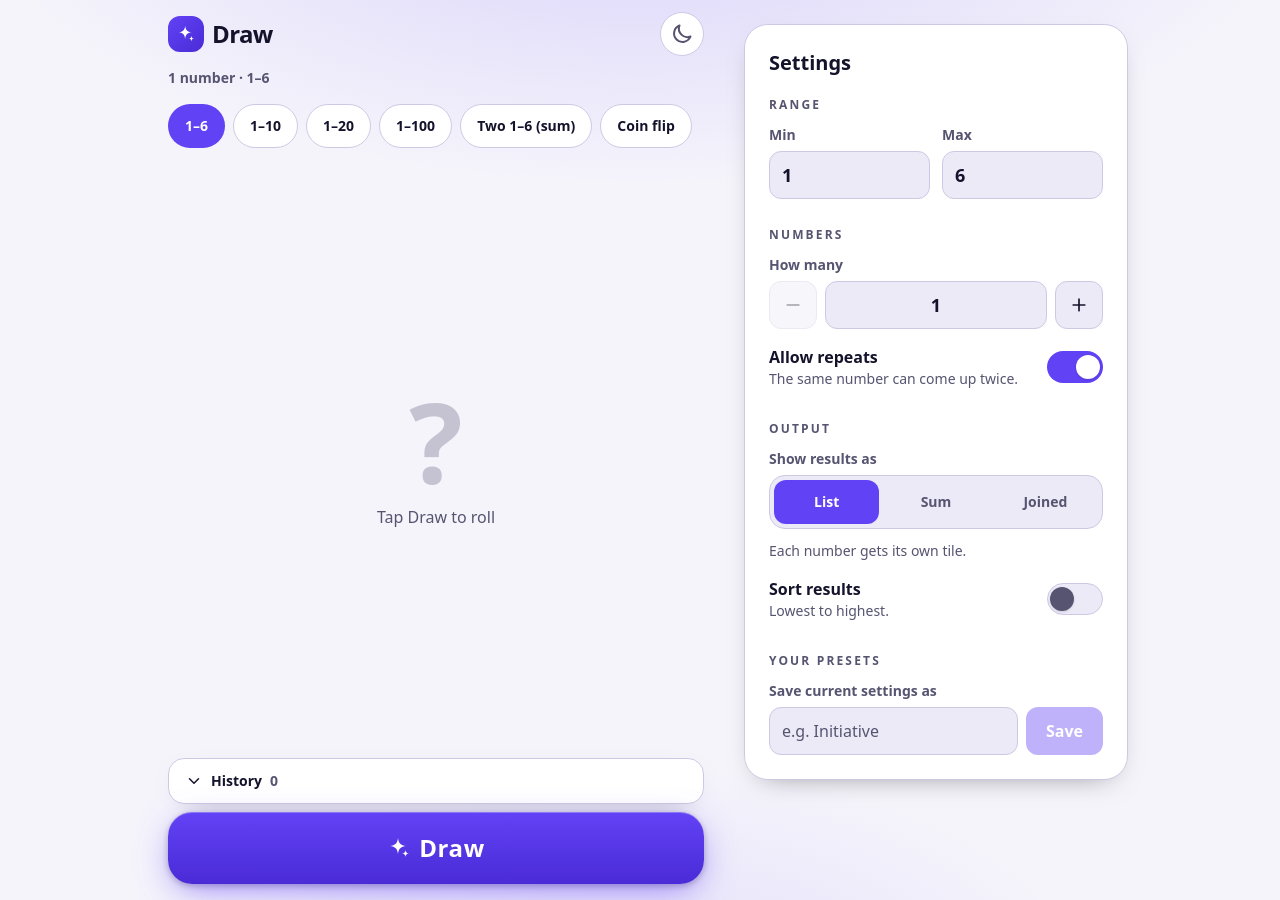
Scenario: drawing › applies a preset in one tap
The image size is (1280, 900).
Click the button "1–20": {"x": 339, "y": 126} [306,104,371,148]
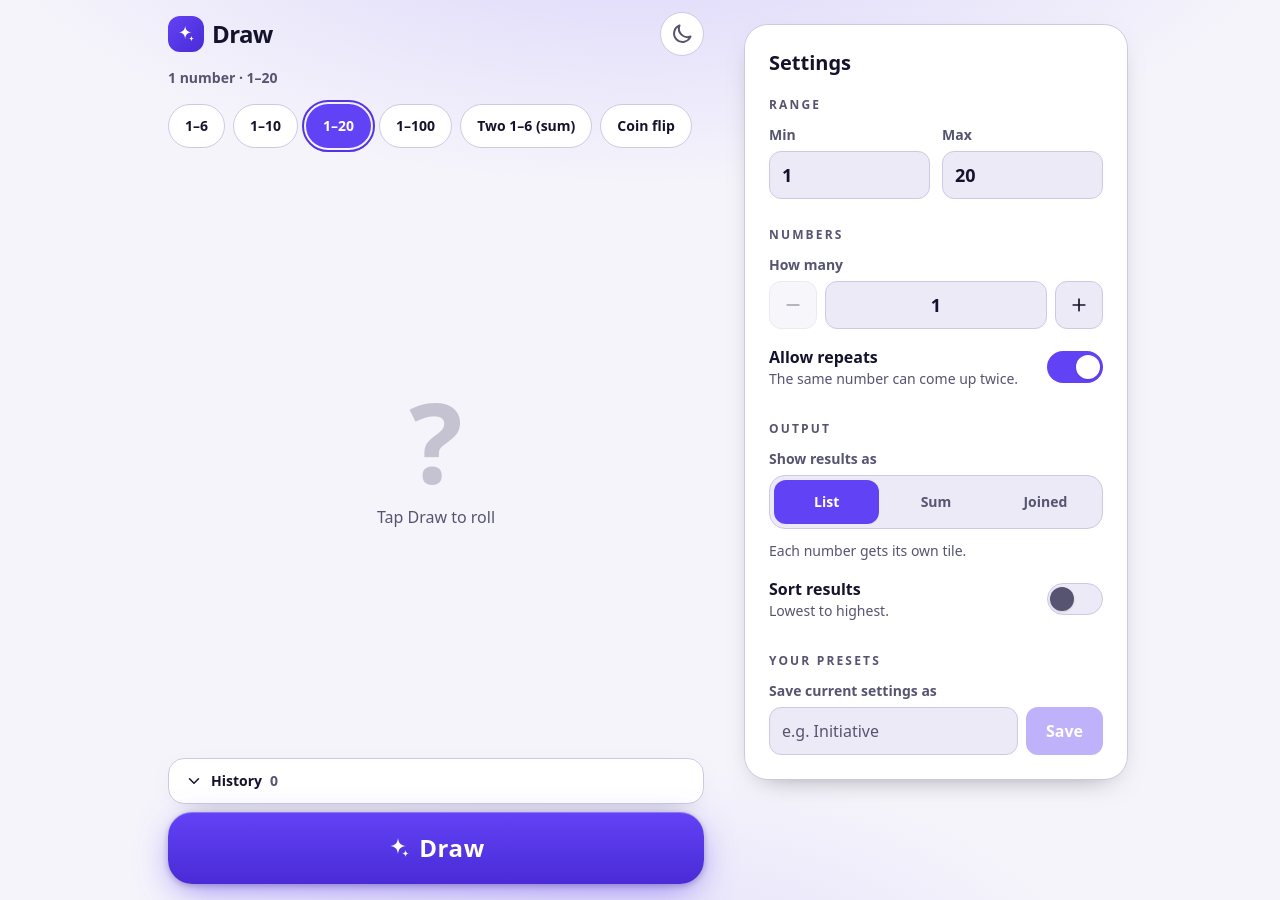
Result: the text with test id "summary" reads "1 number · 1–20" at [168,68,278,87]
